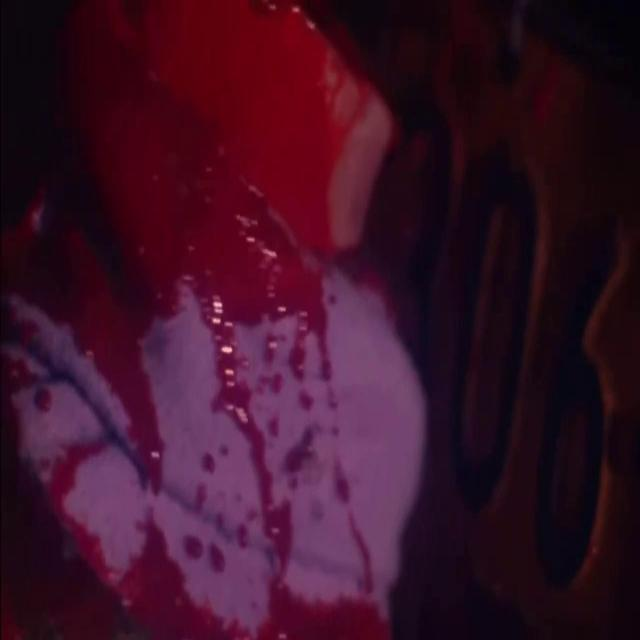flood: (62, 34, 326, 348)
